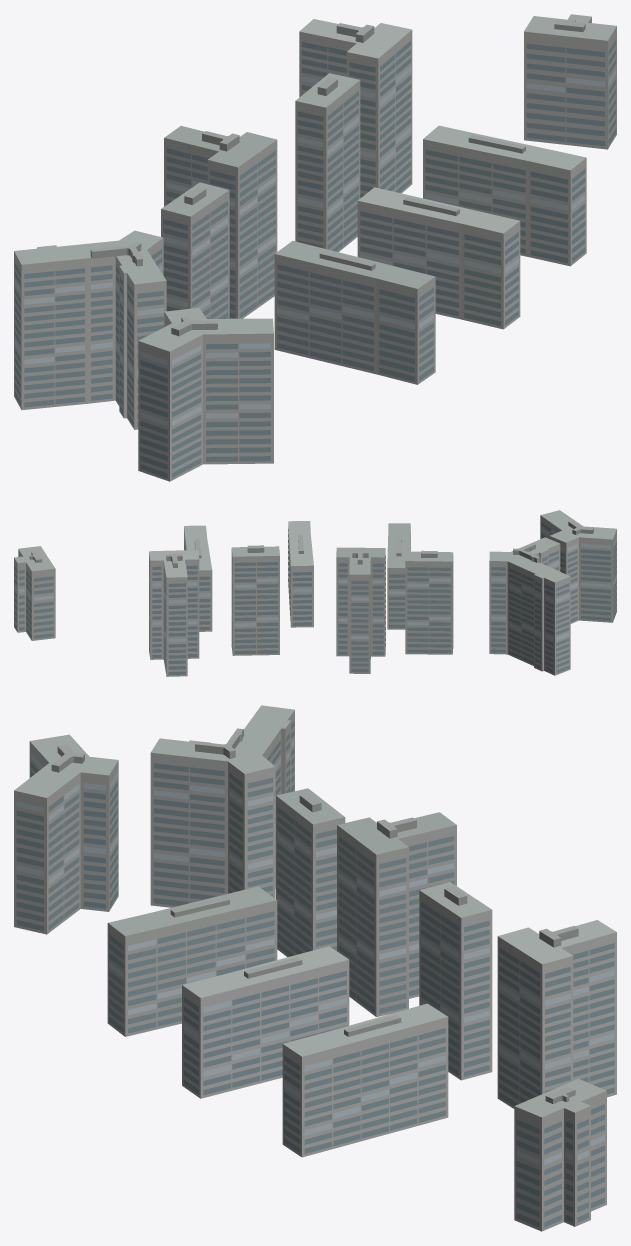
Rendered from apt-a13821005.glb.
3 views of the same model, one above another, from view 1: azimuth 30°, elevation 25°; view 2: azimuth 150°, elevation 25°; view 3: azimuth 270°, elevation 25° (orthographic). The views are drawn at different scales.
Visible parts, largest first — view 1: apt-a13821005; view 2: apt-a13821005; view 3: apt-a13821005.
Part boxes in pixels (<box>): apt-a13821005: <box>14,14,616,481</box>; apt-a13821005: <box>14,510,616,676</box>; apt-a13821005: <box>14,705,616,1231</box>.
Bounding box in the file's own units: 235 × 50 × 161.
